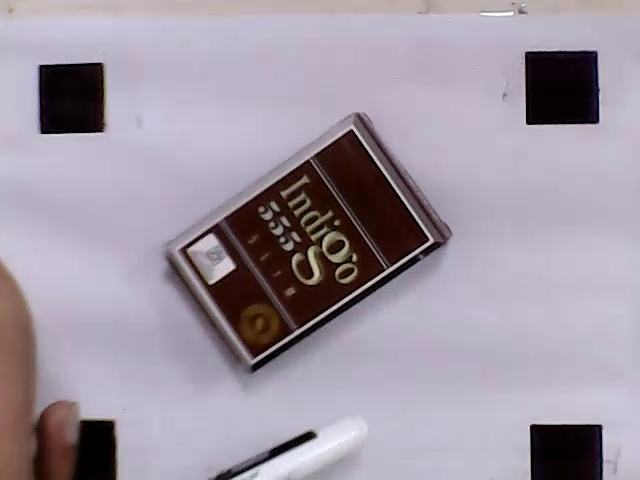BEX: (176, 126, 433, 362)
